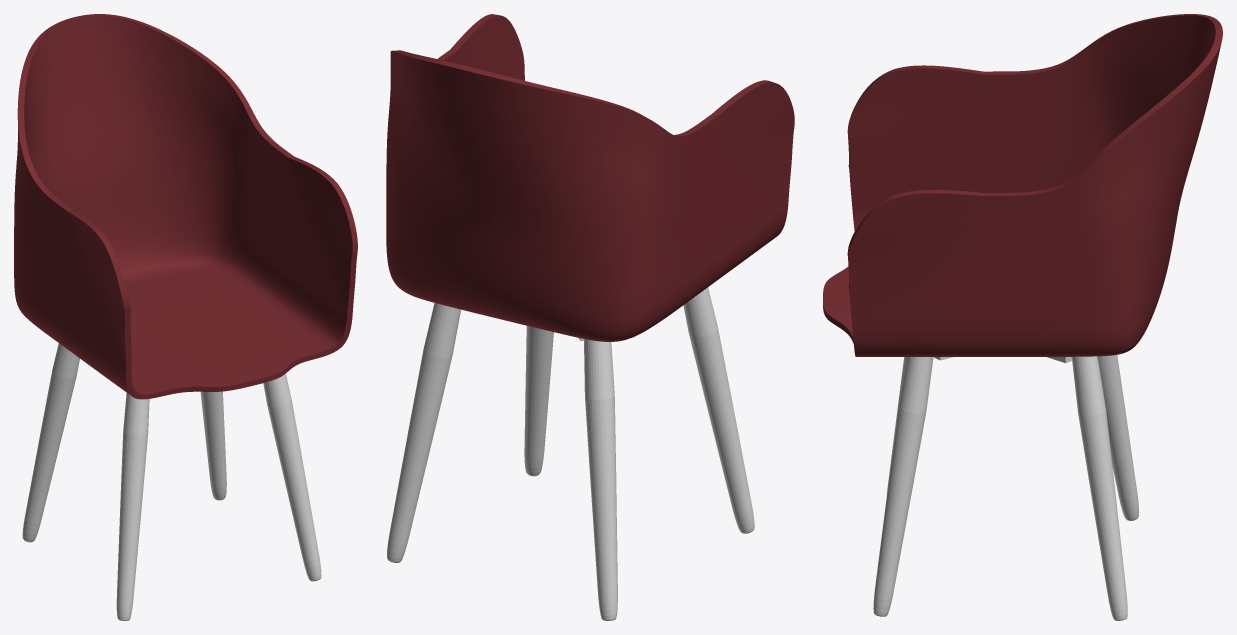
The model's file is chair1.glb.
3 views of the same model, side by side, from view 1: azimuth 30°, elevation 25°; view 2: azimuth 150°, elevation 25°; view 3: azimuth 270°, elevation 25° (orthographic). The views are drawn at different scales.
Visible parts, largest first — view 1: Cube, Cylinder.002, Cylinder.001, Cylinder, Cylinder.003; view 2: Cube, Cylinder, Cylinder.003, Cylinder.002, Cylinder.001; view 3: Cube, Cylinder.003, Cylinder.001, Cylinder.
Boxes of the visible parts, bbox=[...] form: Cube: bbox=[14, 14, 357, 399]; Cylinder.002: bbox=[116, 393, 149, 620]; Cylinder.001: bbox=[263, 373, 321, 581]; Cylinder: bbox=[22, 343, 79, 542]; Cylinder.003: bbox=[200, 391, 226, 500]; Cube: bbox=[386, 14, 794, 341]; Cylinder: bbox=[584, 339, 617, 620]; Cylinder.003: bbox=[387, 303, 460, 562]; Cylinder.002: bbox=[683, 287, 754, 533]; Cylinder.001: bbox=[524, 326, 553, 476]; Cube: bbox=[823, 14, 1222, 356]; Cylinder.003: bbox=[1071, 356, 1127, 620]; Cylinder.001: bbox=[873, 357, 933, 616]; Cylinder: bbox=[1097, 355, 1139, 520].
Bounding box in the file's own units: 0.4809 × 0.9198 × 0.6235.
